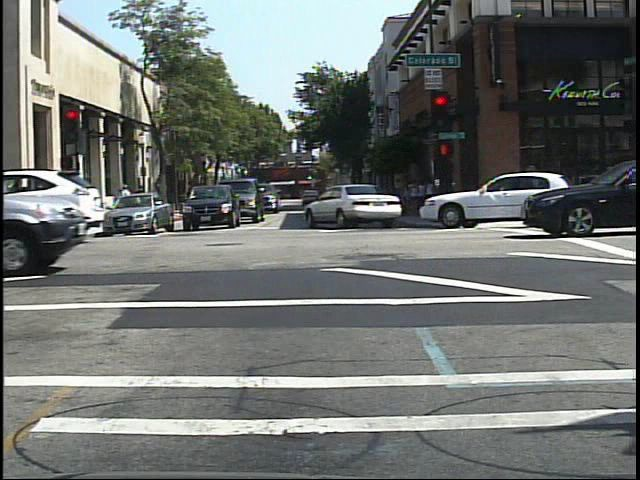person: (116, 181, 134, 218)
